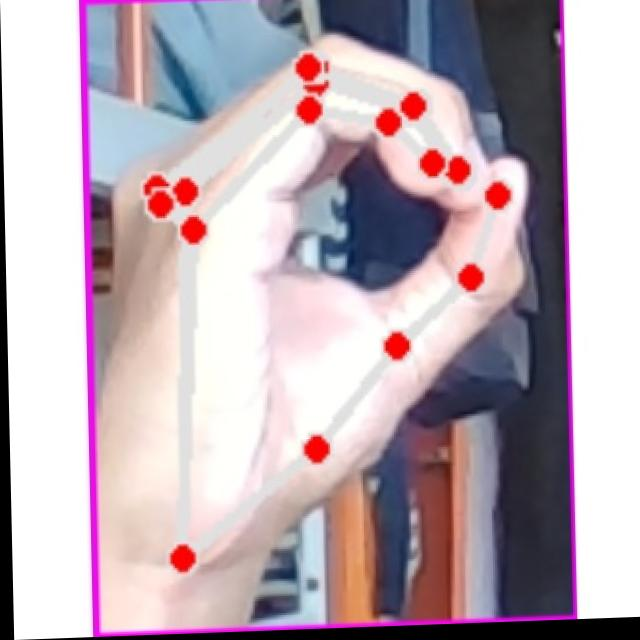O: (94, 22, 548, 605)
